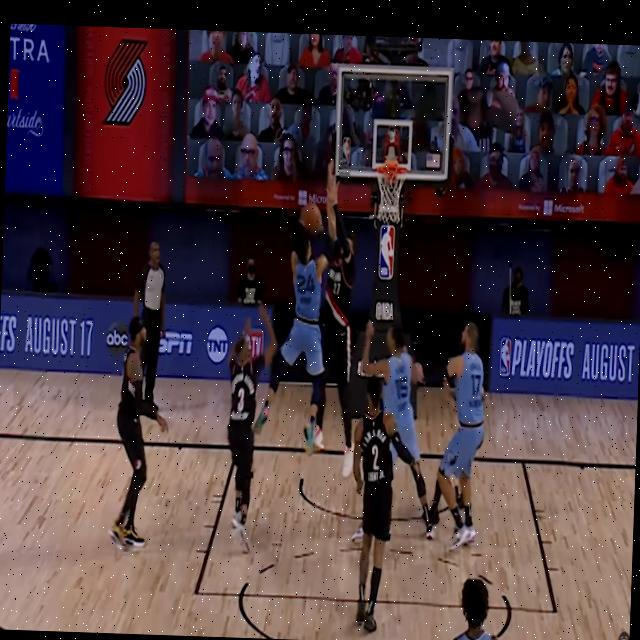foul: (274, 166, 361, 480)
no foul: (345, 315, 421, 637), (340, 374, 407, 634), (423, 322, 482, 548)
